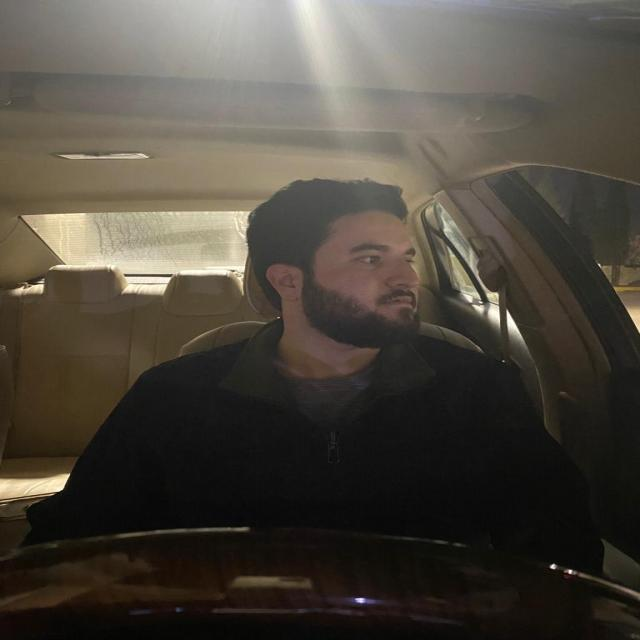LeftRight: (244, 173, 428, 352)
